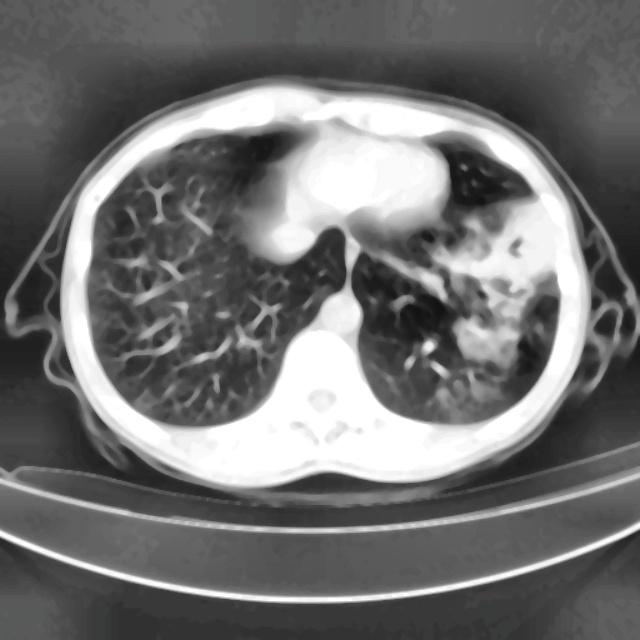covid: (5, 75, 637, 500)
